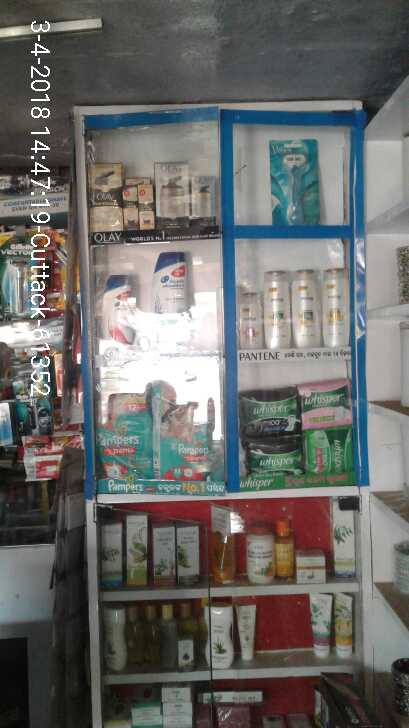gillete: (1, 235, 41, 318), (18, 369, 50, 440)
venus: (271, 140, 323, 223)
